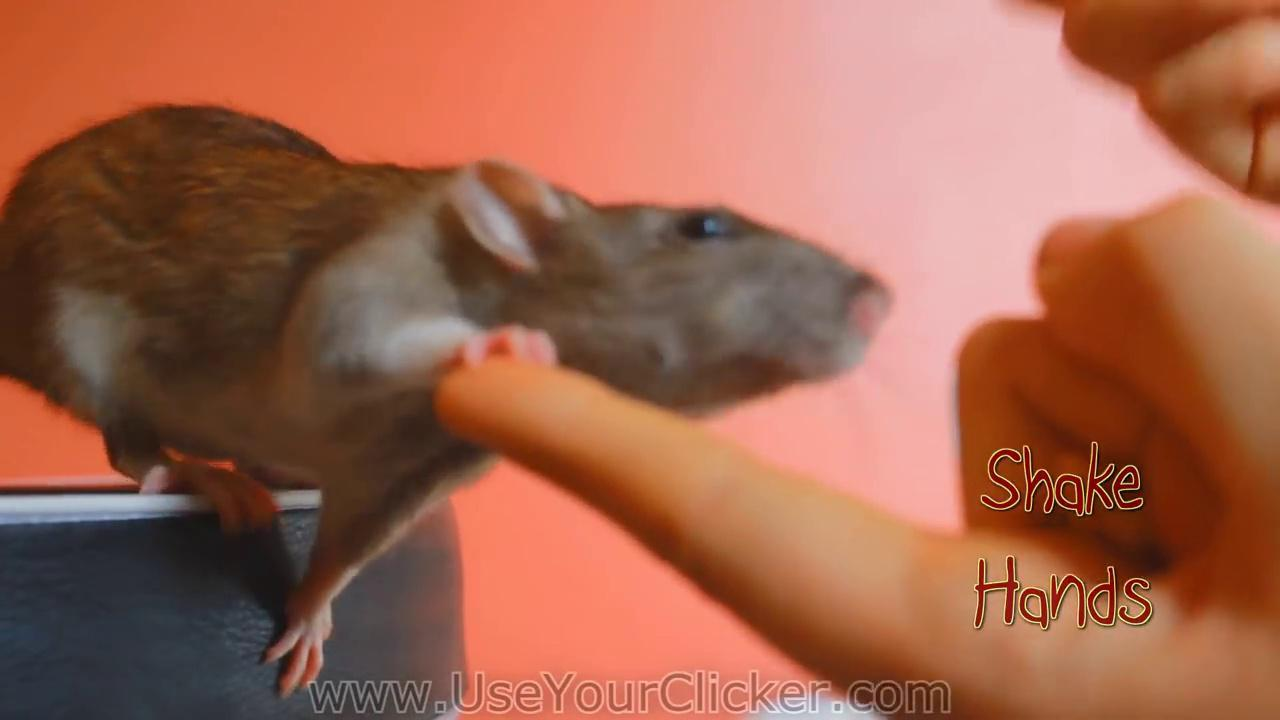rat: (0, 104, 897, 697)
